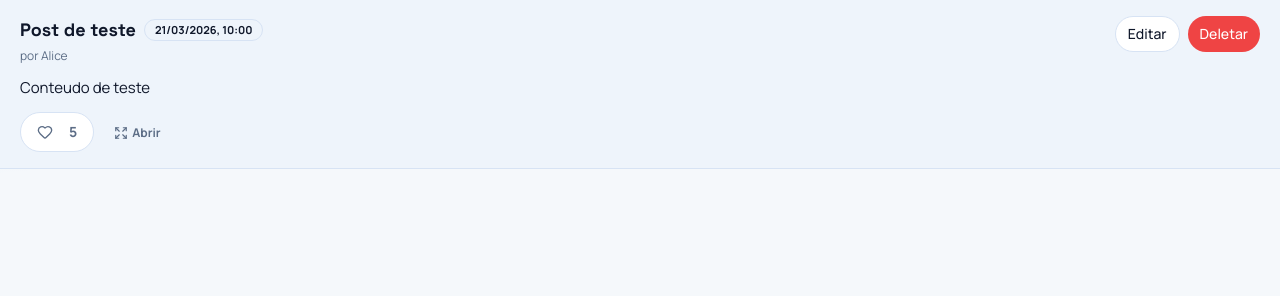
PostCard › entra em modo edição ao clicar em Editar
The width and height of the screenshot is (1280, 296).
Click the button "Editar" at x=1147, y=34, box [1115,16,1180,52]
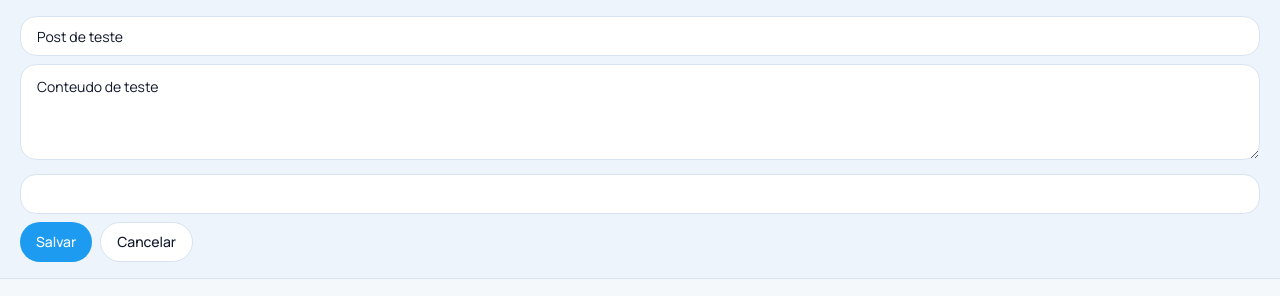
Expected: the 1st field showing "Post de teste" is shown, [20,16,1260,56]
Expected: the text box showing "Conteudo de teste" is shown, [20,64,1260,160]
